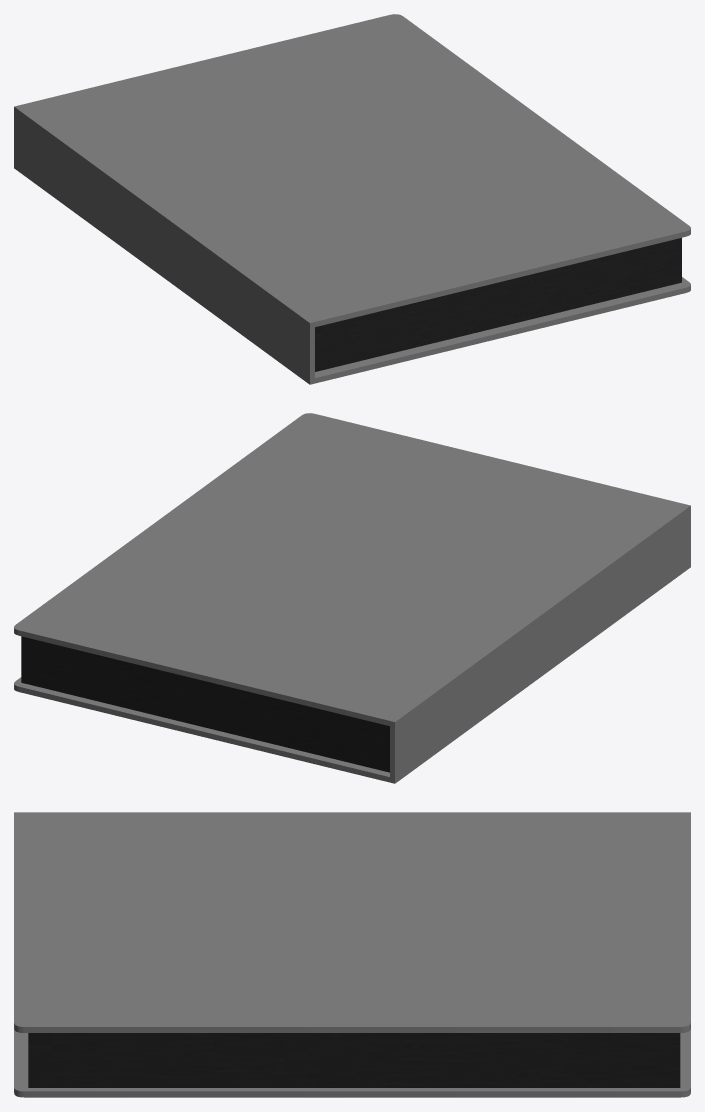
The picture shows the model from 3 angles, top to bottom: view 1: azimuth 30°, elevation 25°; view 2: azimuth 150°, elevation 25°; view 3: azimuth 270°, elevation 25°; orthographic projection. The views are drawn at different scales.
Visible parts, largest first — view 1: Box001, Box002; view 2: Box001, Box002; view 3: Box001, Box002.
Boxes of the visible parts, x1,y1,x2,y2 form: Box001: (14,14,690,384); Box002: (315,238,681,371); Box001: (14,413,690,783); Box002: (21,636,389,772); Box001: (14,812,690,1097); Box002: (28,1033,680,1087).
Bounding box in the file's own units: 150 × 23 × 200.
